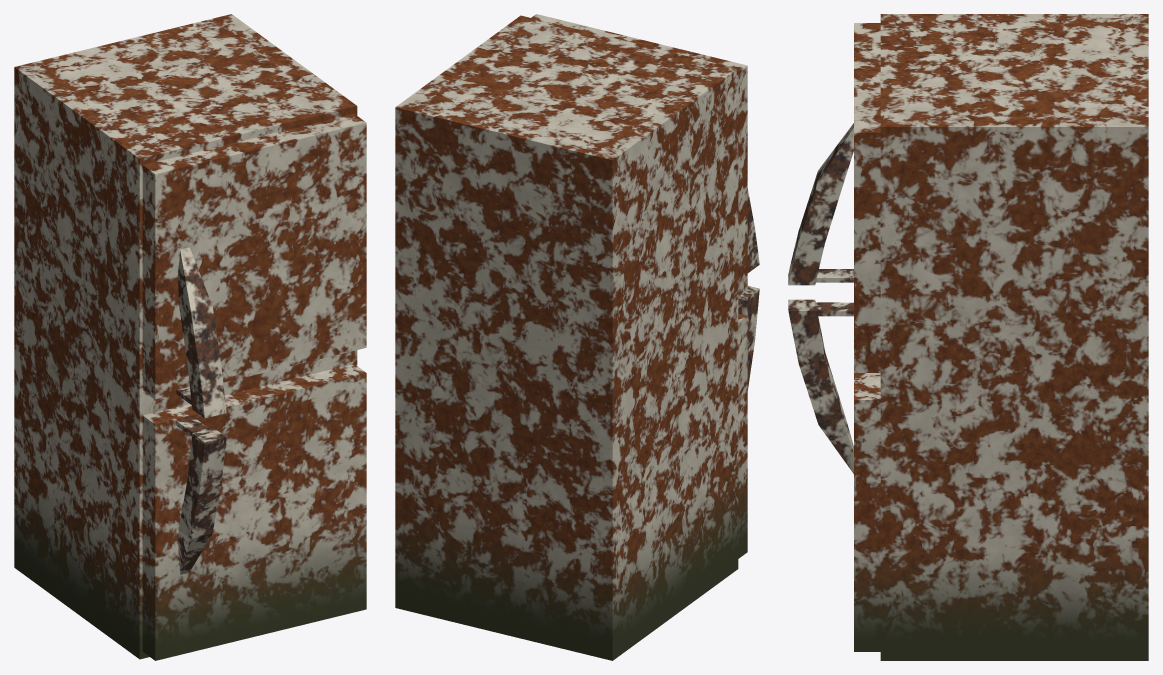
File: KulkasBekas.fbx
The picture shows the model from 3 angles, left to right: view 1: azimuth 30°, elevation 25°; view 2: azimuth 150°, elevation 25°; view 3: azimuth 270°, elevation 25°; orthographic projection. The views are drawn at different scales.
Visible parts, largest first — view 1: KulkasBekas; view 2: KulkasBekas; view 3: KulkasBekas.
Boxes of the visible parts, bbox=[...] form: KulkasBekas: bbox=[14, 14, 366, 660]; KulkasBekas: bbox=[395, 14, 759, 660]; KulkasBekas: bbox=[788, 14, 1148, 660].
Size of the model in its own units: 200 by 440 by 269.
1 material, 1 textured.
